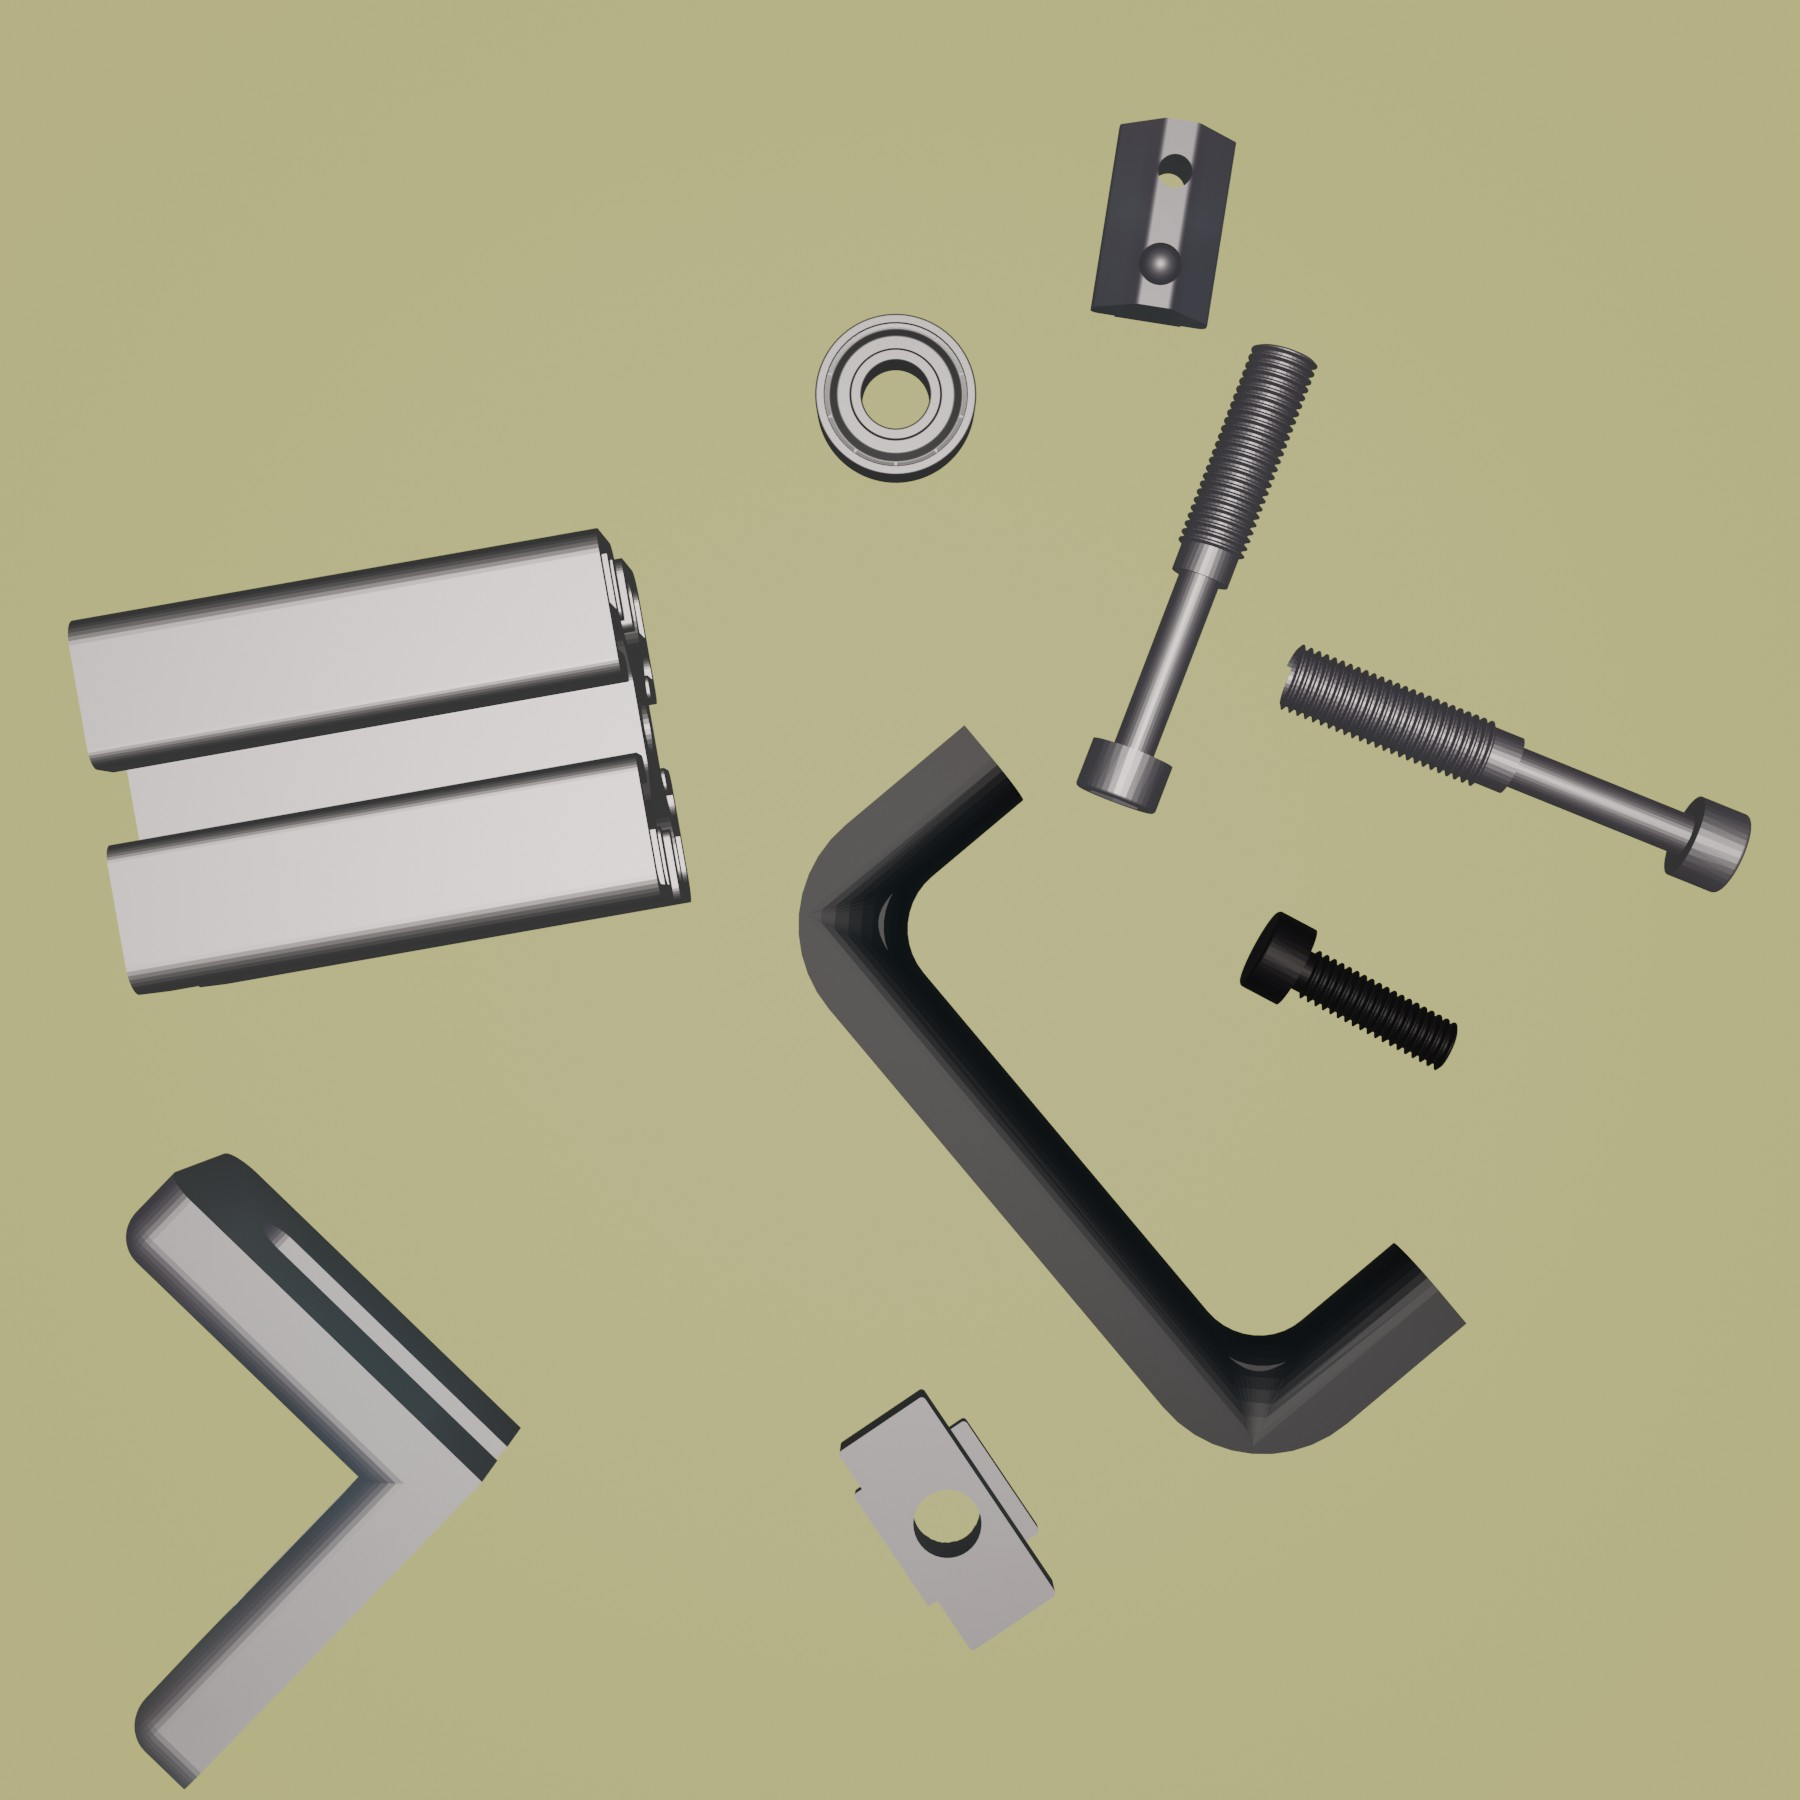Aluminium Extension: (66, 523, 696, 999)
Ball Bearing: (811, 312, 979, 485)
Multiwinkel: (125, 1151, 524, 1792)
Pull Handle: (798, 722, 1465, 1455)
Shoulder Socket Head Cap Screw: (1274, 640, 1754, 893), (1075, 341, 1320, 818)
Socket Head Cap Screw: (1235, 907, 1460, 1070)
T Nut Square: (836, 1386, 1058, 1653)
T Spring Nut: (1086, 112, 1238, 331)
